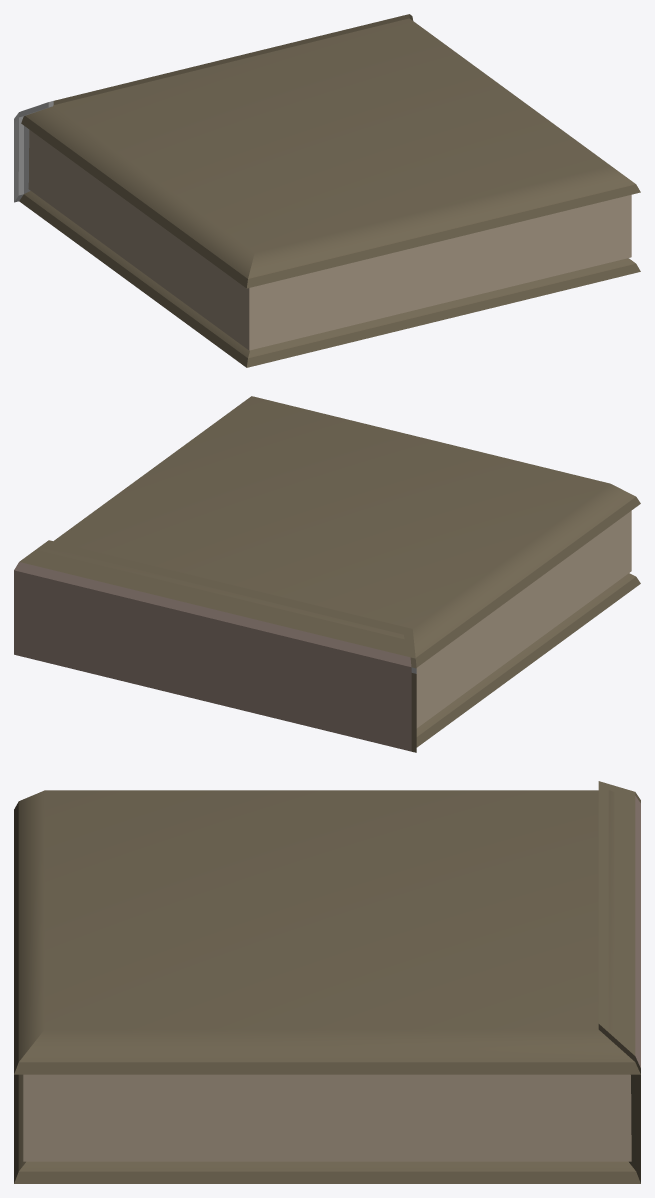
File: book 1.fbx
The picture shows the model from 3 angles, top to bottom: view 1: azimuth 30°, elevation 25°; view 2: azimuth 150°, elevation 25°; view 3: azimuth 270°, elevation 25°; orthographic projection. The views are drawn at different scales.
Visible parts, largest first — view 1: polySurface5; view 2: polySurface5; view 3: polySurface5.
Part boxes in pixels (x1,y1,x2,y2): polySurface5: (14,14,640,367); polySurface5: (14,396,640,752); polySurface5: (14,781,640,1183).
Size of the model in its own units: 1.01 by 0.2594 by 1.
